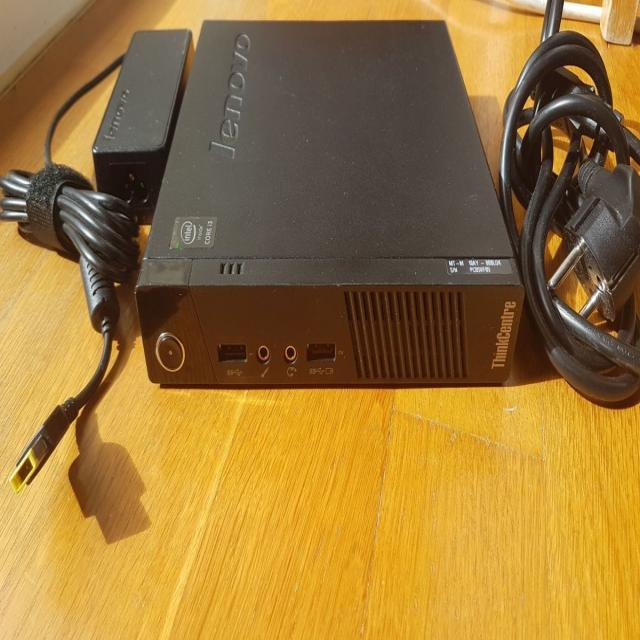Desktop-PC: (143, 1, 529, 403)
